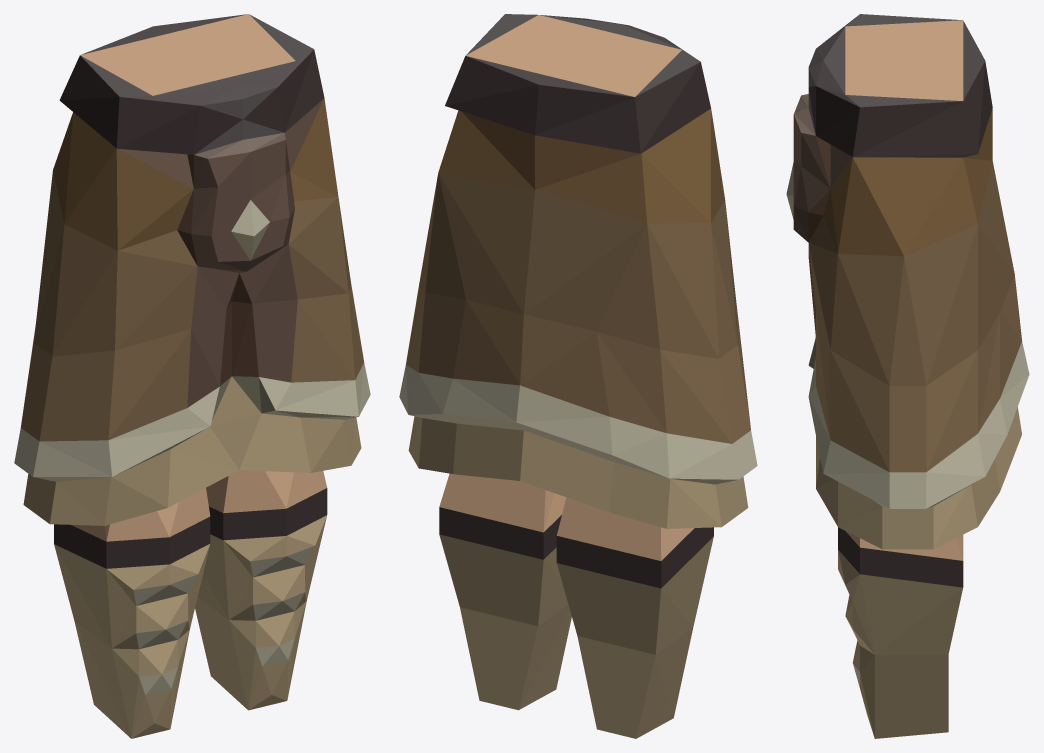
The picture shows the model from 3 angles, left to right: view 1: azimuth 30°, elevation 25°; view 2: azimuth 150°, elevation 25°; view 3: azimuth 270°, elevation 25°; orthographic projection. The views are drawn at different scales.
Bounding box in the file's own units: 52 × 96 × 33.
Materials: 1 (1 with a texture image).
